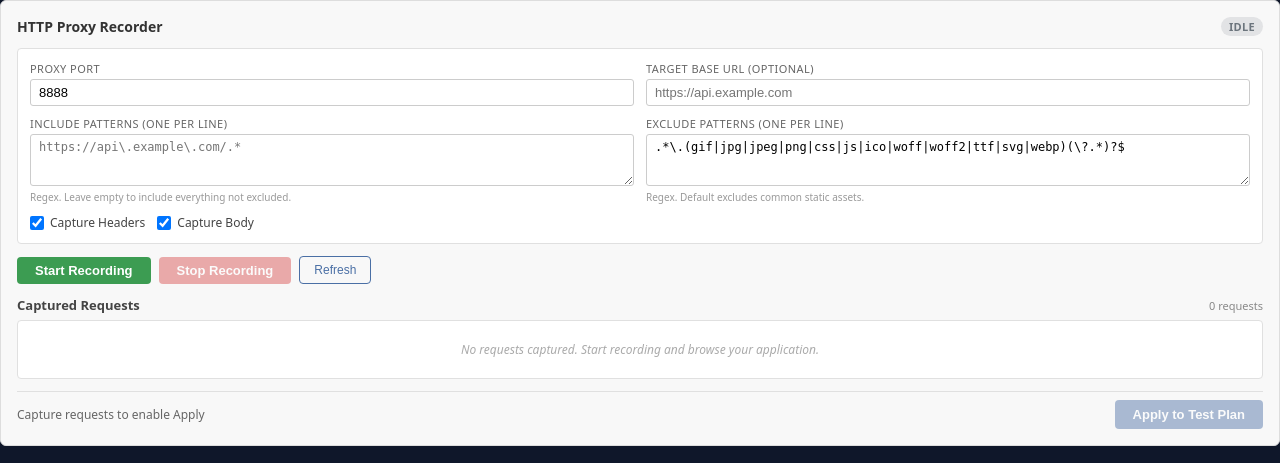
Test: ProxyRecorderPanel — captured list › renders captured request with method and URL
# Trigger a refresh to load the captures
Click the button with test id "refresh-captured-btn".
click(335, 270)  # box [299, 256, 371, 284]
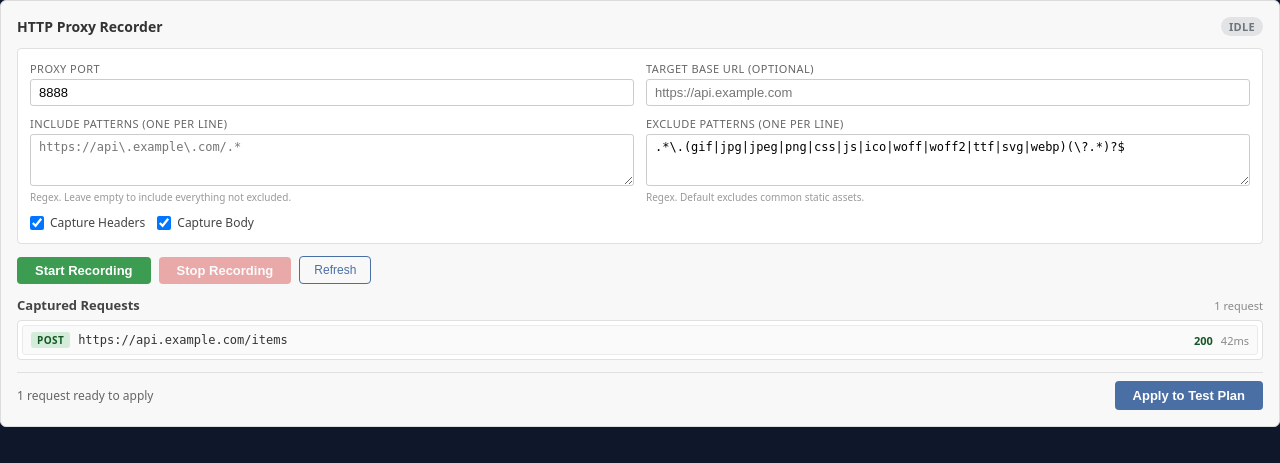
Check: the text "POST" is shown, box [31, 332, 70, 348]
Check: the text "https://api.example.com/items" is shown, box [78, 333, 288, 347]
